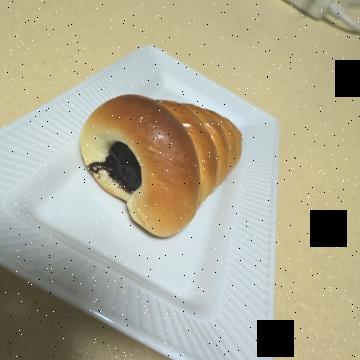cream horn: (67, 108, 256, 294)
